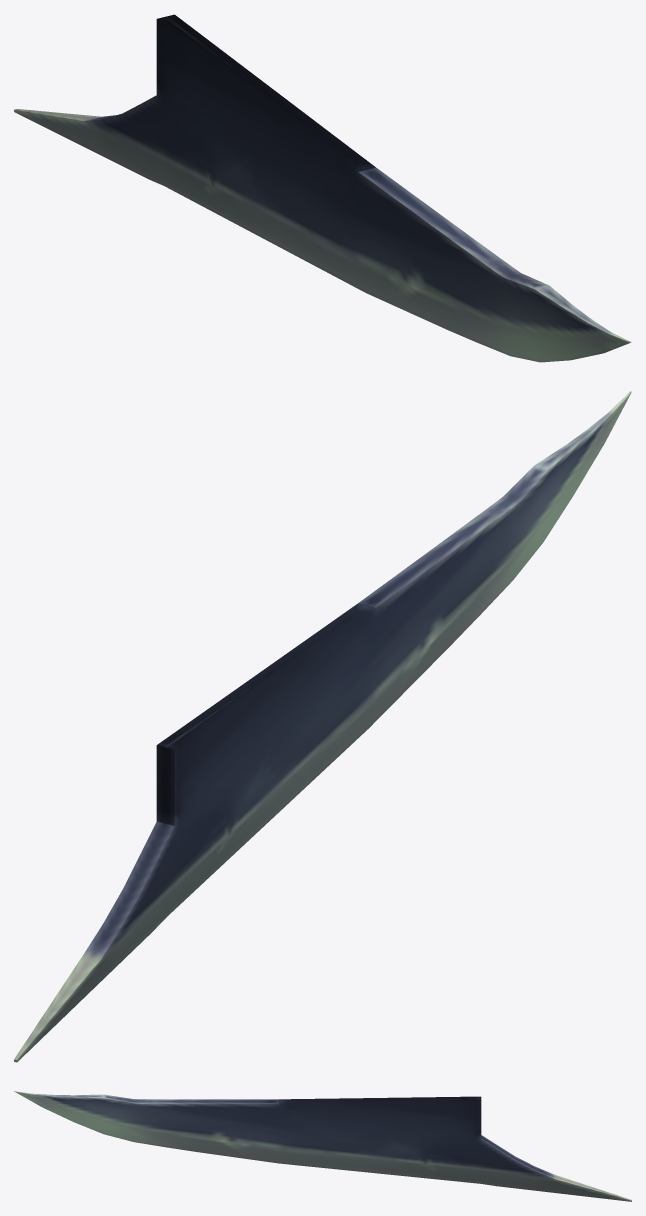
File: WEA_Gunblade_Blade.fbx
The picture shows the model from 3 angles, top to bottom: view 1: azimuth 30°, elevation 25°; view 2: azimuth 150°, elevation 25°; view 3: azimuth 270°, elevation 25°; orthographic projection. The views are drawn at different scales.
Parts seen in each view (by area): view 1: Gunblade_0_mesh1; view 2: Gunblade_0_mesh1; view 3: Gunblade_0_mesh1.
Boxes of the visible parts, x1,y1,x2,y2 form: Gunblade_0_mesh1: (14, 14, 631, 362); Gunblade_0_mesh1: (14, 391, 631, 1062); Gunblade_0_mesh1: (14, 1091, 631, 1201).
Size of the model in its own units: 0.9486 by 11.06 by 56.13.
